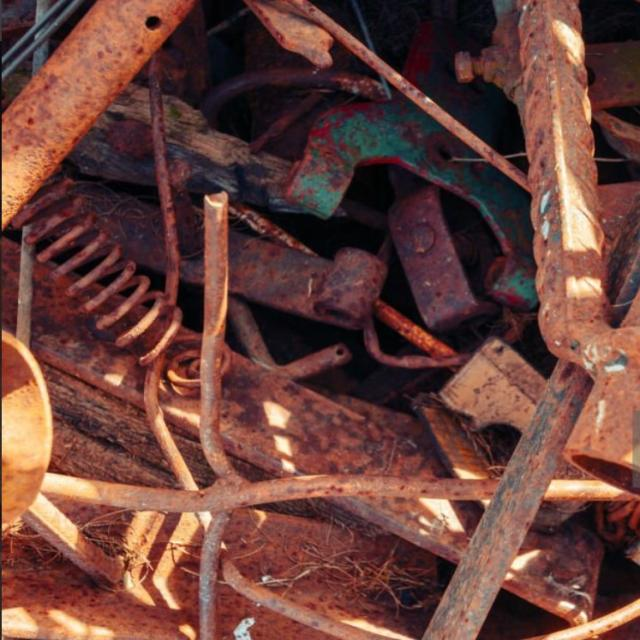small-shock-absorbers: (10, 175, 203, 401)
